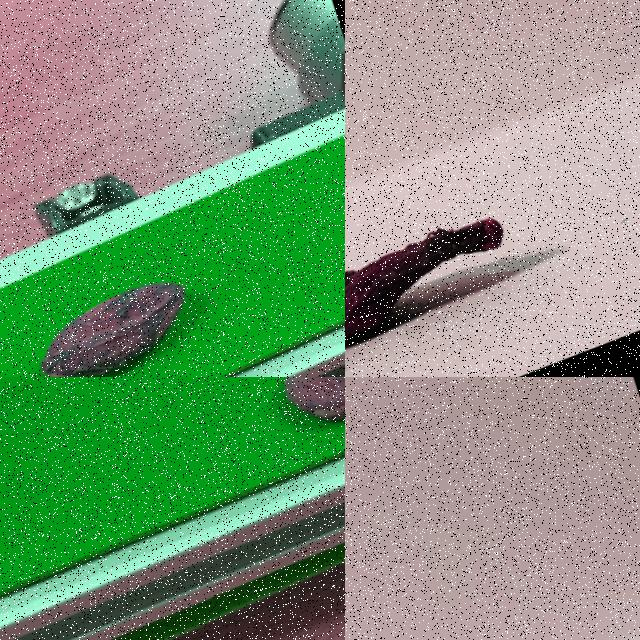Fine_cocoabeans: (0, 204, 341, 376)
Flat_cocoabeans: (345, 113, 632, 376), (201, 377, 344, 489)
